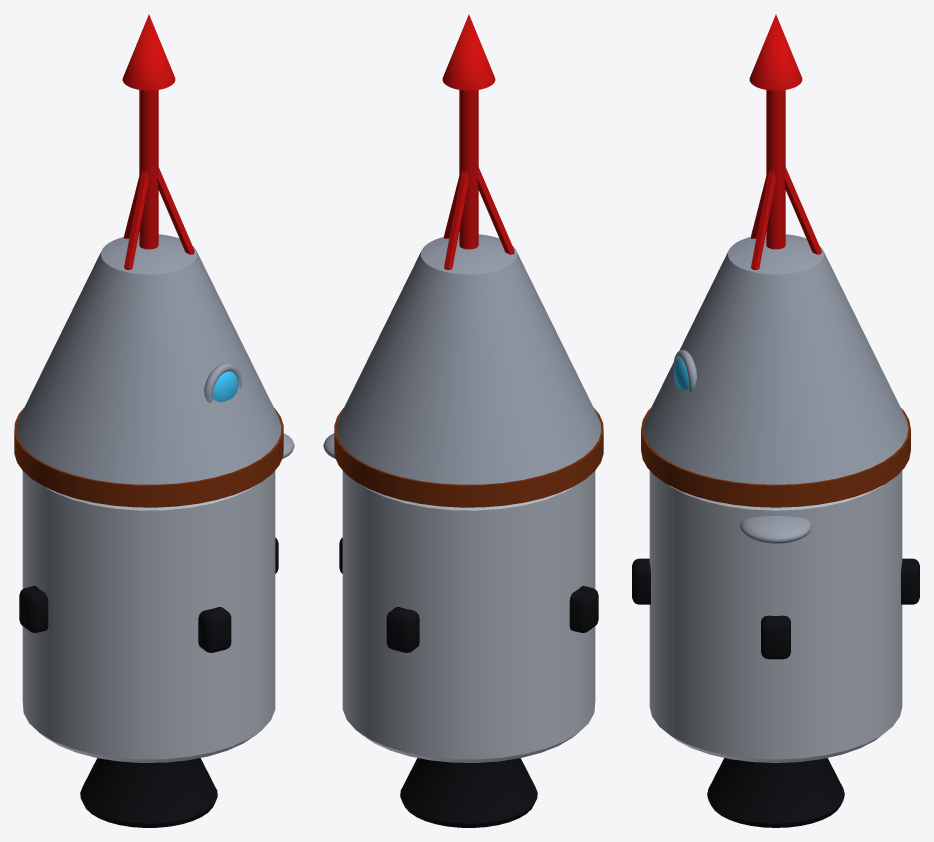
Rendered from Rocket_16_Capsule.obj.
The picture shows the model from 3 angles, left to right: view 1: azimuth 30°, elevation 25°; view 2: azimuth 150°, elevation 25°; view 3: azimuth 270°, elevation 25°; orthographic projection.
Parts seen in each view (by area): view 1: R16_Service, R16_Capsule.001, R16_Nozzle, R16_HeatShield, R16_Tower, R16_EscapeMotor, R16_RCS_4, R16_RCS_3, R16_Truss_2, R16_Truss_3, R16_Window, R16_WindowFrame; view 2: R16_Service, R16_Capsule.001, R16_Nozzle, R16_HeatShield, R16_Tower, R16_EscapeMotor, R16_RCS_2, R16_RCS_3, R16_Truss, R16_Truss_2; view 3: R16_Service, R16_Capsule.001, R16_Nozzle, R16_HeatShield, R16_Tower, R16_EscapeMotor, R16_Dish, R16_RCS, R16_Truss_3, R16_RCS_2, R16_RCS_4, R16_Truss.
Part boxes in pixels (x1,y1,x2,y2): R16_Service: (22,470,275,762); R16_Capsule.001: (16,234,281,484); R16_Nozzle: (80,758,217,827); R16_HeatShield: (14,408,283,507); R16_Tower: (139,90,158,249); R16_EscapeMotor: (122,14,175,90); R16_RCS_4: (198,607,231,652); R16_RCS_3: (19,586,48,632); R16_Truss_2: (124,170,148,269); R16_Truss_3: (157,167,194,254); R16_Window: (212,371,238,401); R16_WindowFrame: (204,363,241,402); R16_Service: (342,470,595,762); R16_Capsule.001: (336,234,601,484); R16_Nozzle: (400,758,537,827); R16_HeatShield: (334,408,603,507); R16_Tower: (459,90,478,249); R16_EscapeMotor: (442,14,495,90); R16_RCS_2: (386,607,419,652); R16_RCS_3: (569,586,598,632); R16_Truss: (444,170,468,269); R16_Truss_2: (477,167,514,254); R16_Service: (649,470,902,762); R16_Capsule.001: (643,234,908,484); R16_Nozzle: (707,758,844,827); R16_HeatShield: (641,408,910,507); R16_Tower: (766,90,785,249); R16_EscapeMotor: (749,14,802,90); R16_Dish: (740,516,811,543); R16_RCS: (761,615,790,659); R16_Truss_3: (751,170,775,269); R16_RCS_2: (901,558,919,604); R16_RCS_4: (632,558,650,604); R16_Truss: (784,167,821,254).
Size of the model in its own units: 2.55 by 7.2 by 2.39.
